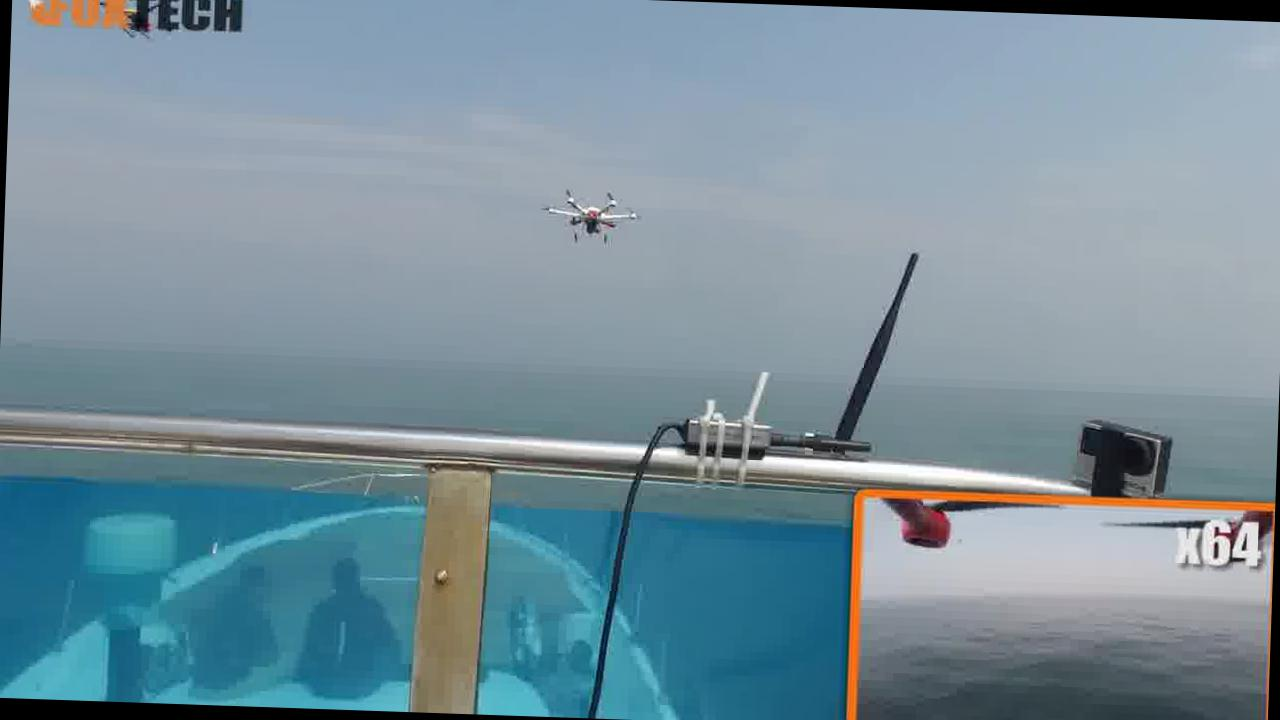drone: (518, 178, 640, 247)
